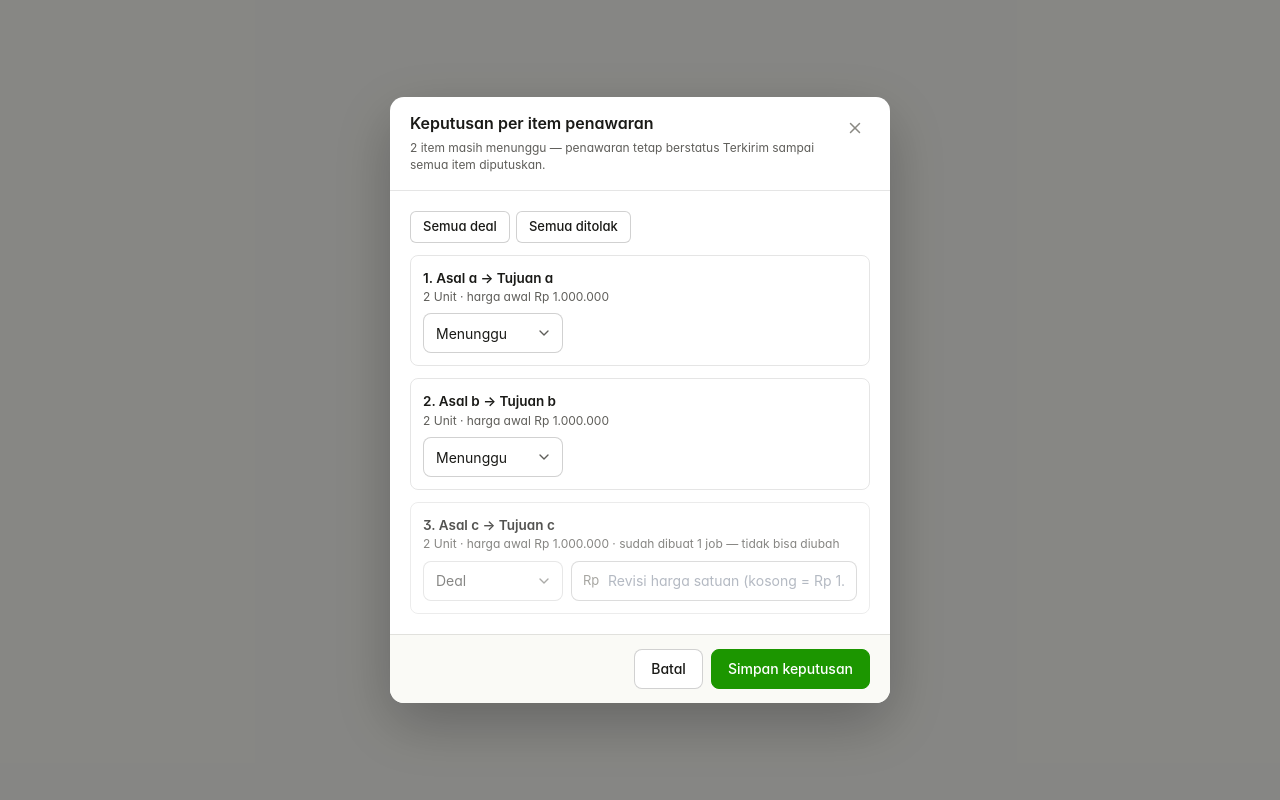
Scenario: modal keputusan per item penawaran › deal dengan revisi harga menampilkan total baru & harga awal
This screenshot has width=1280, height=800.
Select "Deal" in the dropdown named "Keputusan item 1" at (493, 333), box x1=423 y1=313 x2=563 y2=353
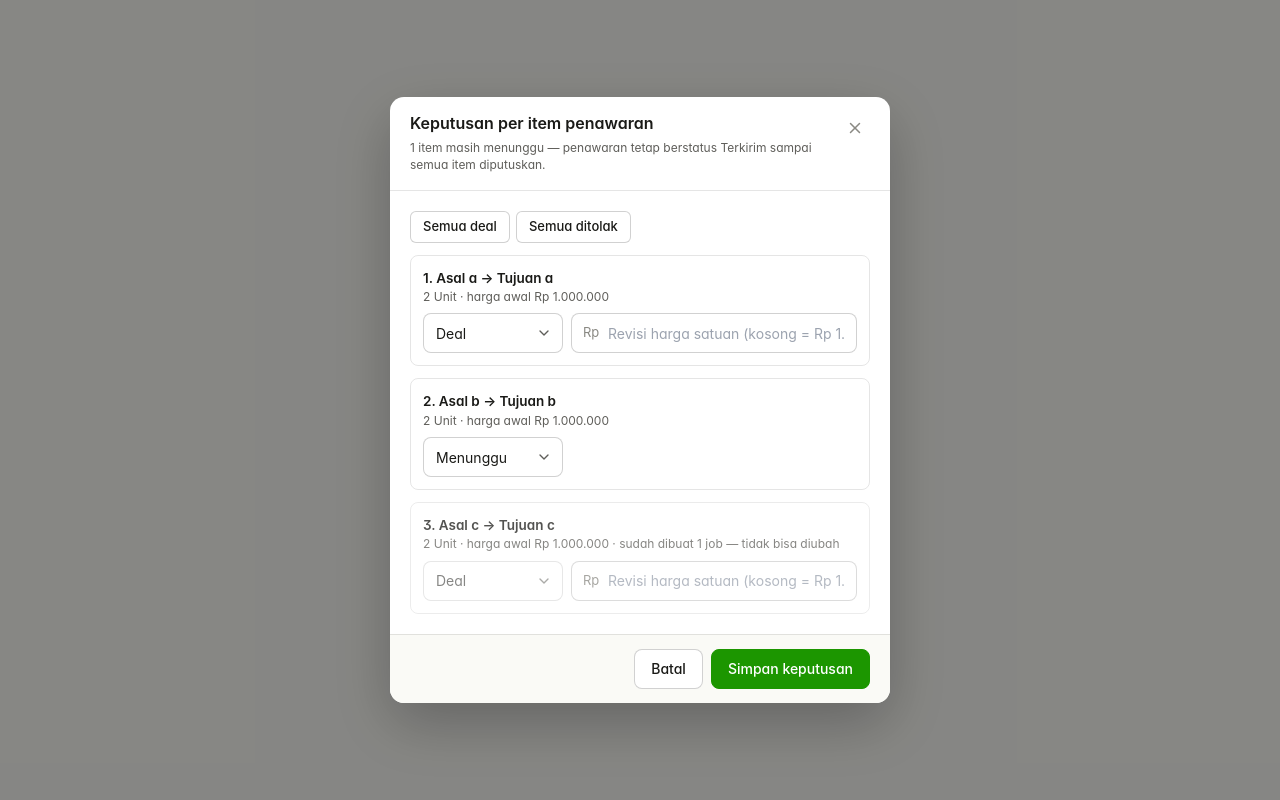
Type "900000" into the field named "Harga revisi item 1" at (714, 333), box x1=571 y1=313 x2=857 y2=353
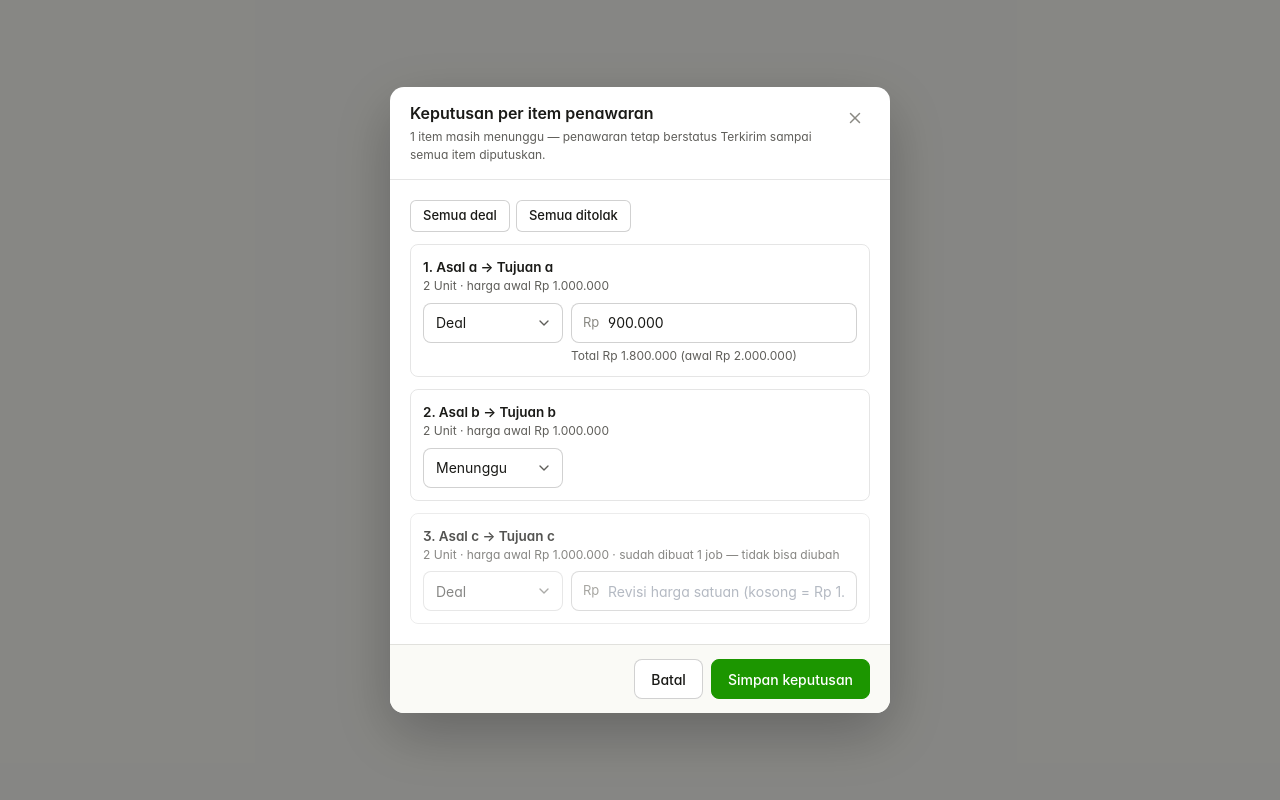
Expected: the text "Total Rp 1.800.000 (awal Rp 2.000.000)" is shown, x1=571 y1=348 x2=797 y2=363
